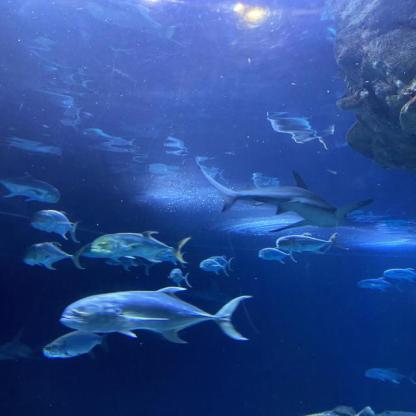fish: (59, 286, 253, 345), (94, 231, 189, 261), (81, 243, 158, 271), (0, 170, 61, 204), (43, 328, 110, 358), (25, 242, 84, 270), (31, 210, 80, 238), (278, 233, 341, 252), (272, 406, 379, 416), (365, 368, 416, 386), (358, 276, 402, 291), (200, 256, 232, 276), (258, 248, 297, 263), (384, 268, 416, 284), (170, 268, 190, 286)
shark: (198, 164, 374, 232), (0, 330, 44, 362)
stingray: (375, 411, 415, 416)
